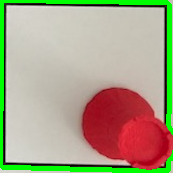Red Castle: (78, 82, 173, 172)
